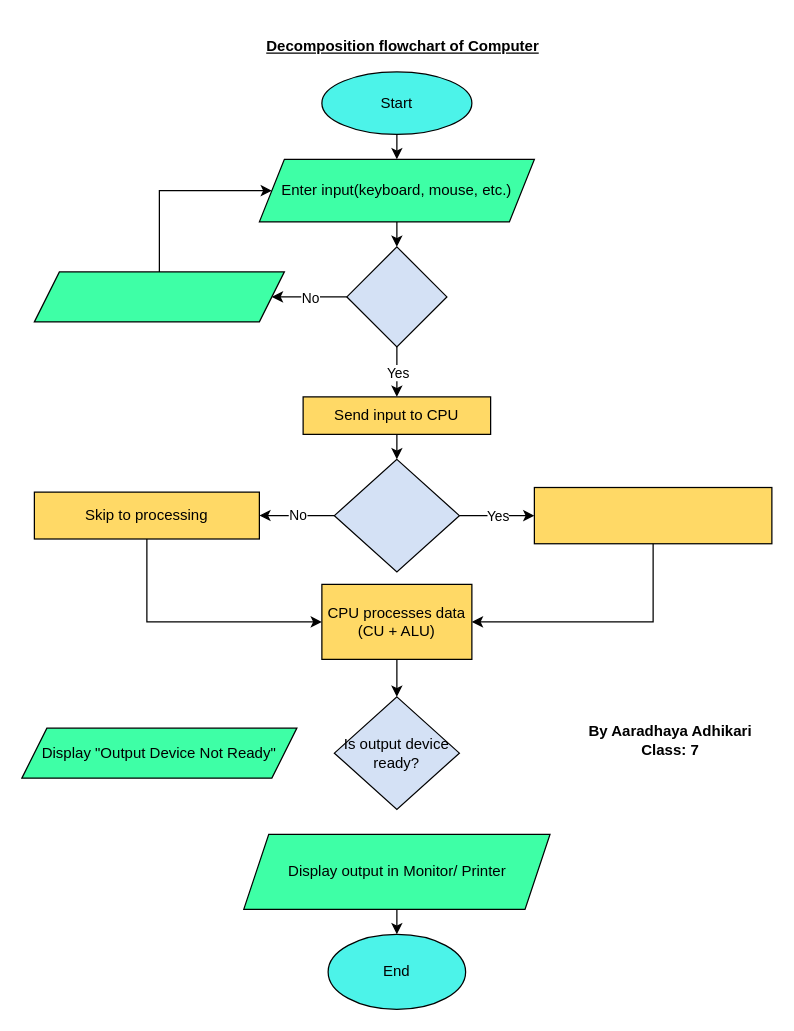
Image size: 794x1031. Some labels were removed from this diagram. Each missing label, with the centre of its shape:
"Access Memory (RAM/ROM)" goes at point 652,515.
"Is data required from memory?" goes at point 396,515.
"Is input valid?" goes at point 396,296.
"Show error message" goes at point 158,296.
